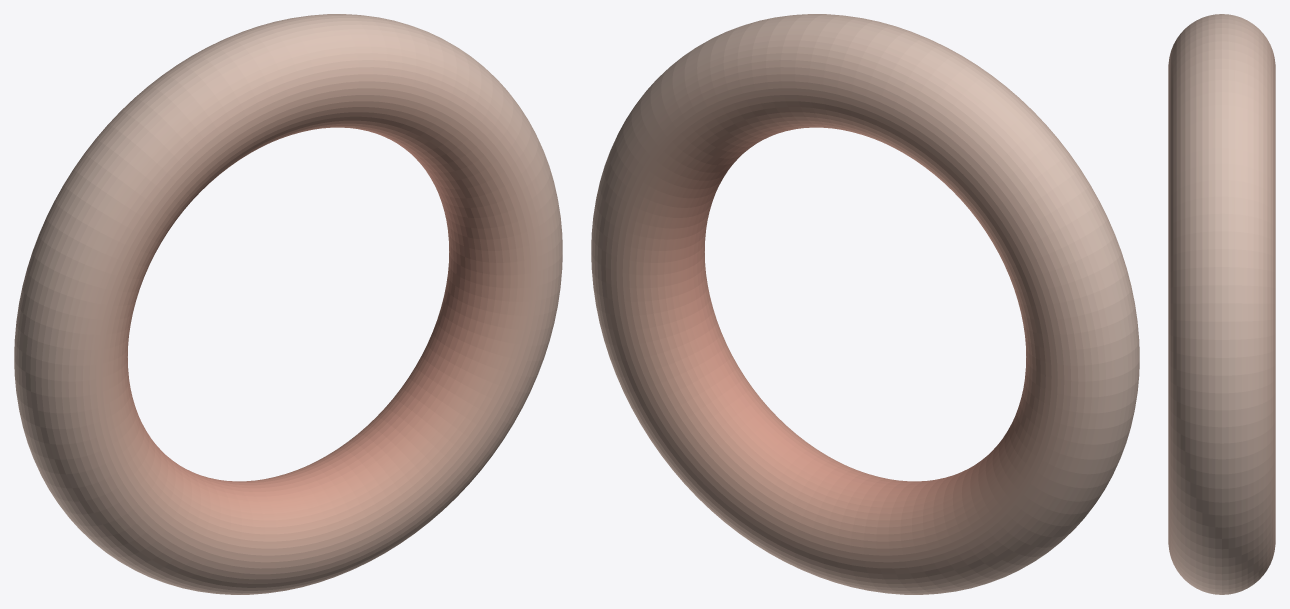
3 views of the same model, side by side, from view 1: azimuth 30°, elevation 25°; view 2: azimuth 150°, elevation 25°; view 3: azimuth 270°, elevation 25° (orthographic). The views are drawn at different scales.
Visible parts, largest first — view 1: world; view 2: world; view 3: world.
Part boxes in pixels (box(x1,y1,x2,y2)): world: box(14, 14, 562, 594); world: box(591, 14, 1139, 594); world: box(1168, 14, 1275, 594).
Size of the model in its own units: 31.07 by 31.07 by 5.72.
